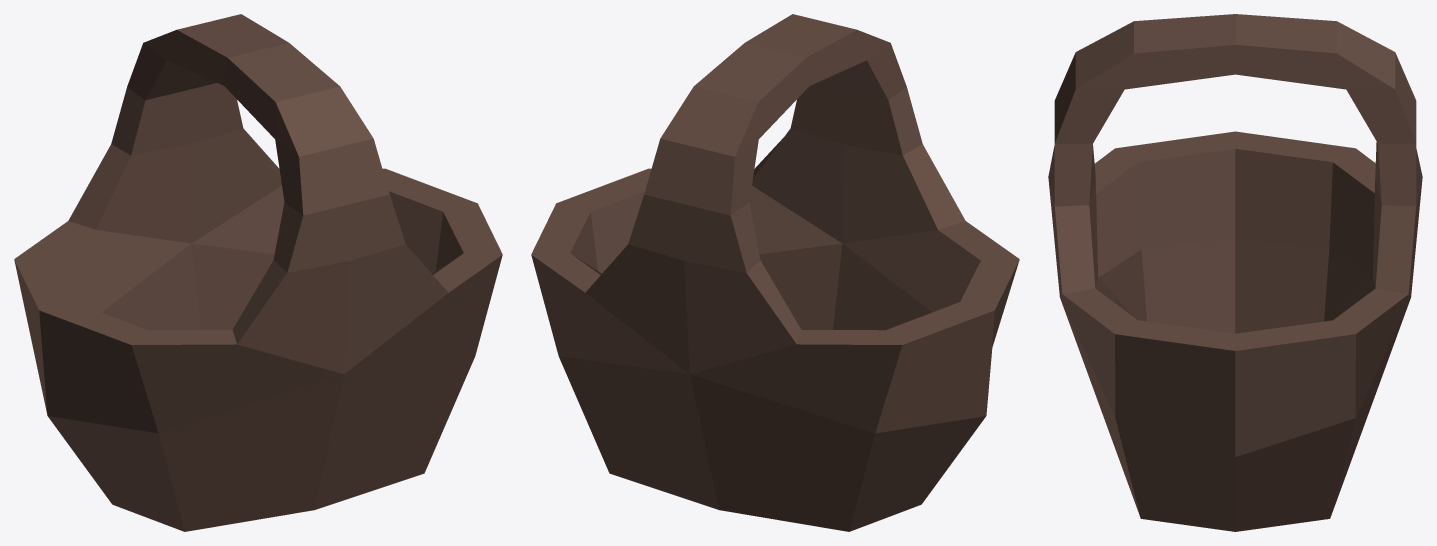
File: Basket.fbx
3 views of the same model, side by side, from view 1: azimuth 30°, elevation 25°; view 2: azimuth 150°, elevation 25°; view 3: azimuth 270°, elevation 25° (orthographic). The views are drawn at different scales.
Parts seen in each view (by area): view 1: Basket; view 2: Basket; view 3: Basket.
Boxes of the visible parts, box(x1,y1,x2,y2) form: Basket: box(14, 14, 502, 531); Basket: box(531, 14, 1019, 531); Basket: box(1048, 14, 1422, 531).
Size of the model in its own units: 90 by 82.09 by 64.85.
